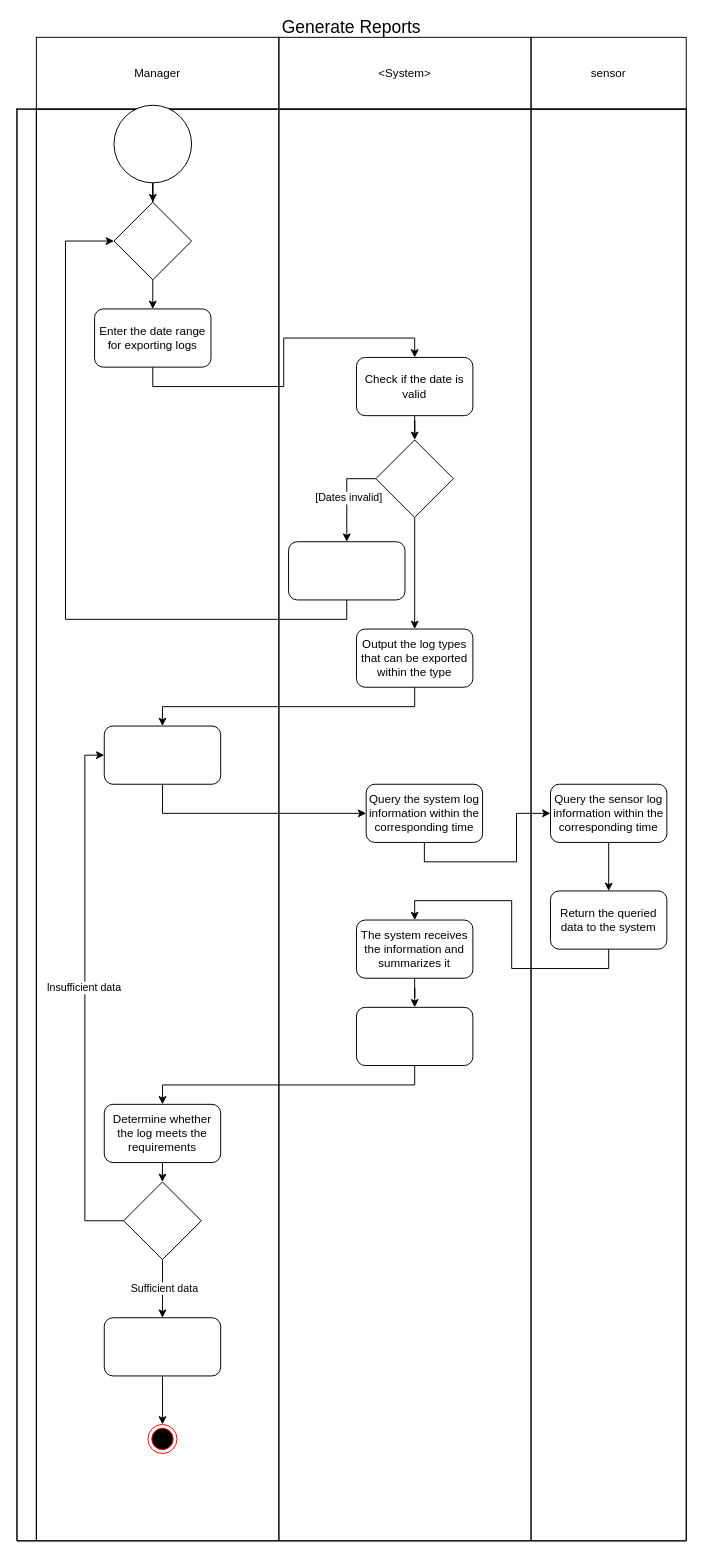
The diagram is 703 pixels wide and 1558 high, and some of its shapes have lost their labels. The shapes that lost their labels are listed below. From the top down, each one's centre as x and y in pixels, then its label:
At (346,570): "Prompt manager for valid dates".
At (162,754): "Select which types of log data to export".
At (414,1036): "Display summary log results to managers".
At (162,1346): "Analyze data and create reports".
